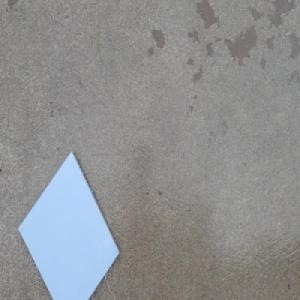PaintChip: (18, 150, 120, 300)
